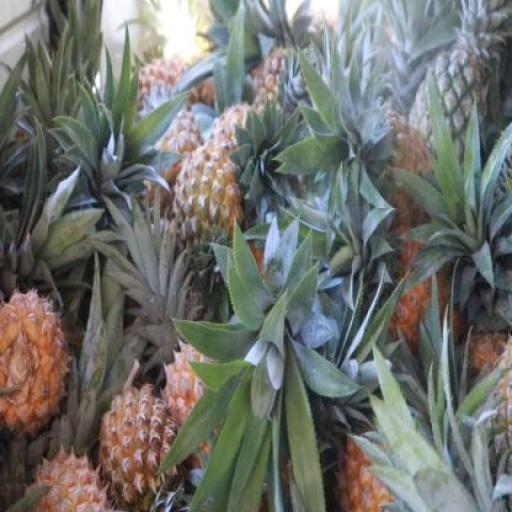------------------------------: (172, 142, 240, 276)
Pineapple - v8 v1: (0, 291, 70, 429), (97, 386, 173, 509)
